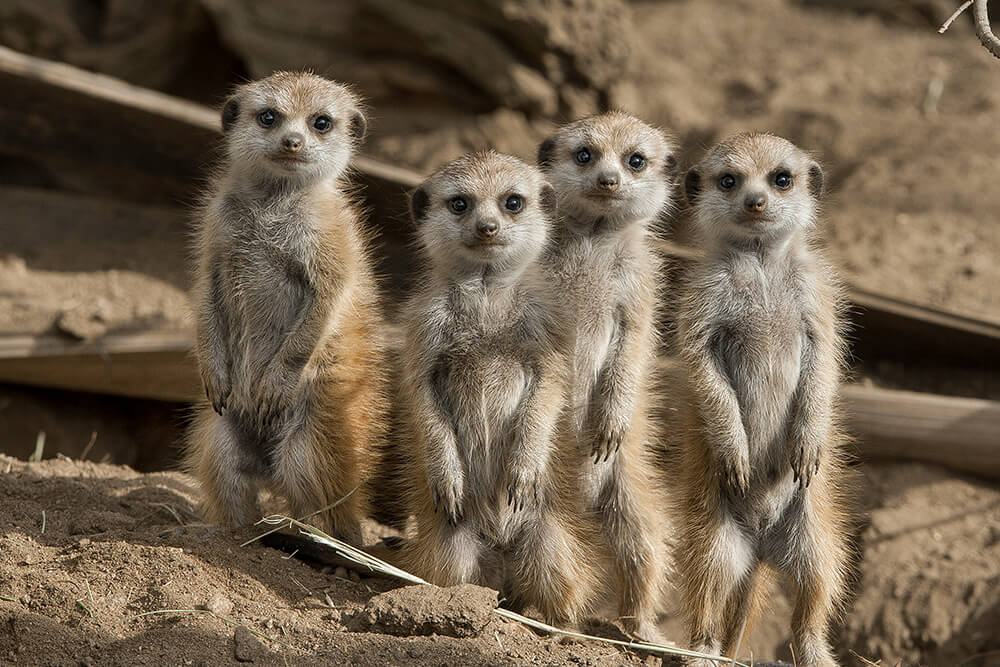meerkat: (159, 68, 404, 554), (675, 114, 875, 667), (375, 130, 575, 628)
